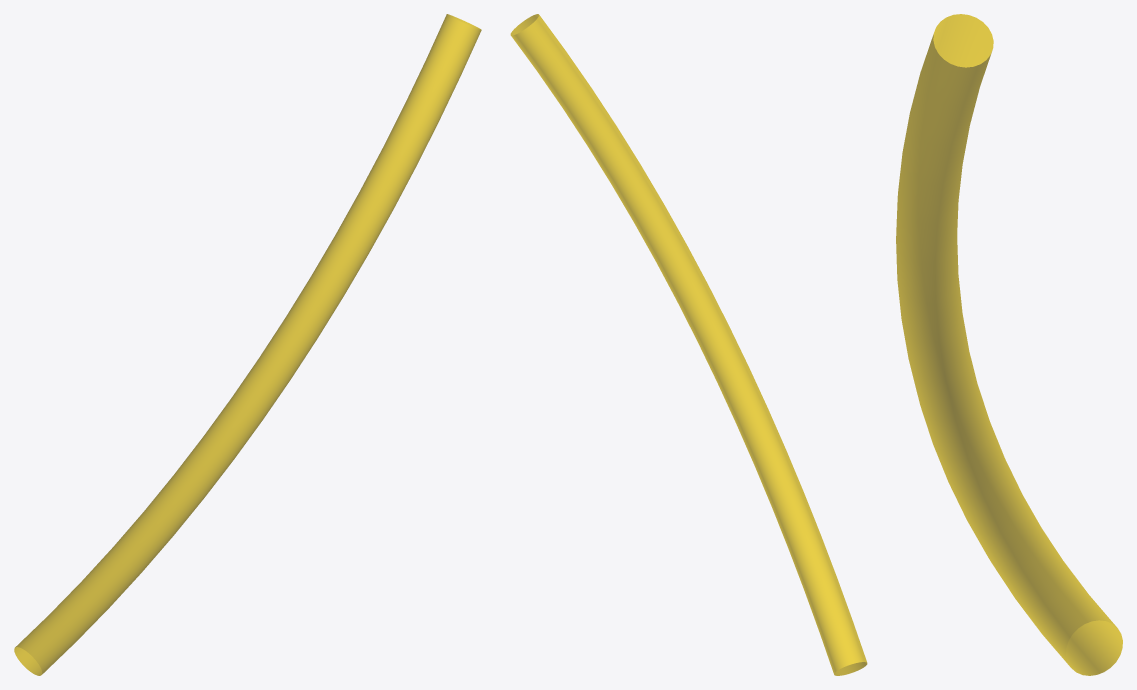
File: Event_15818458_track_60.fbx
3 views of the same model, side by side, from view 1: azimuth 30°, elevation 25°; view 2: azimuth 150°, elevation 25°; view 3: azimuth 270°, elevation 25° (orthographic). The views are drawn at different scales.
Parts seen in each view (by area): view 1: Model; view 2: Model; view 3: Model.
Boxes of the visible parts, x1,y1,x2,y2 form: Model: (14, 14, 481, 675); Model: (510, 14, 867, 675); Model: (896, 14, 1122, 675).
Size of the model in its own units: 0.5076 by 0.6839 by 0.148.
